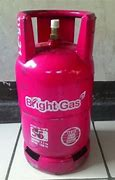bright_gas: (15, 9, 97, 176)
